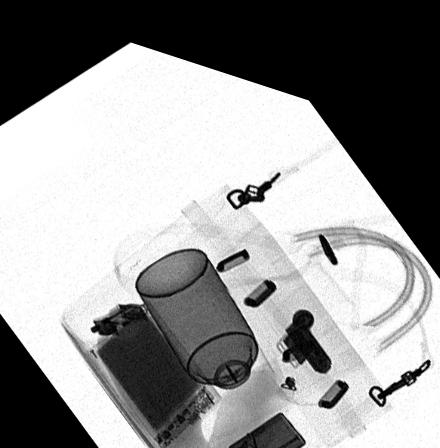Lighter: (227, 391, 307, 448)
Powerbank: (88, 292, 223, 446)
Sprayer: (134, 234, 277, 402)
